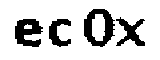0: (79, 5, 115, 49)
c: (44, 19, 77, 50)
e: (11, 17, 42, 50)
x: (115, 15, 149, 53)
